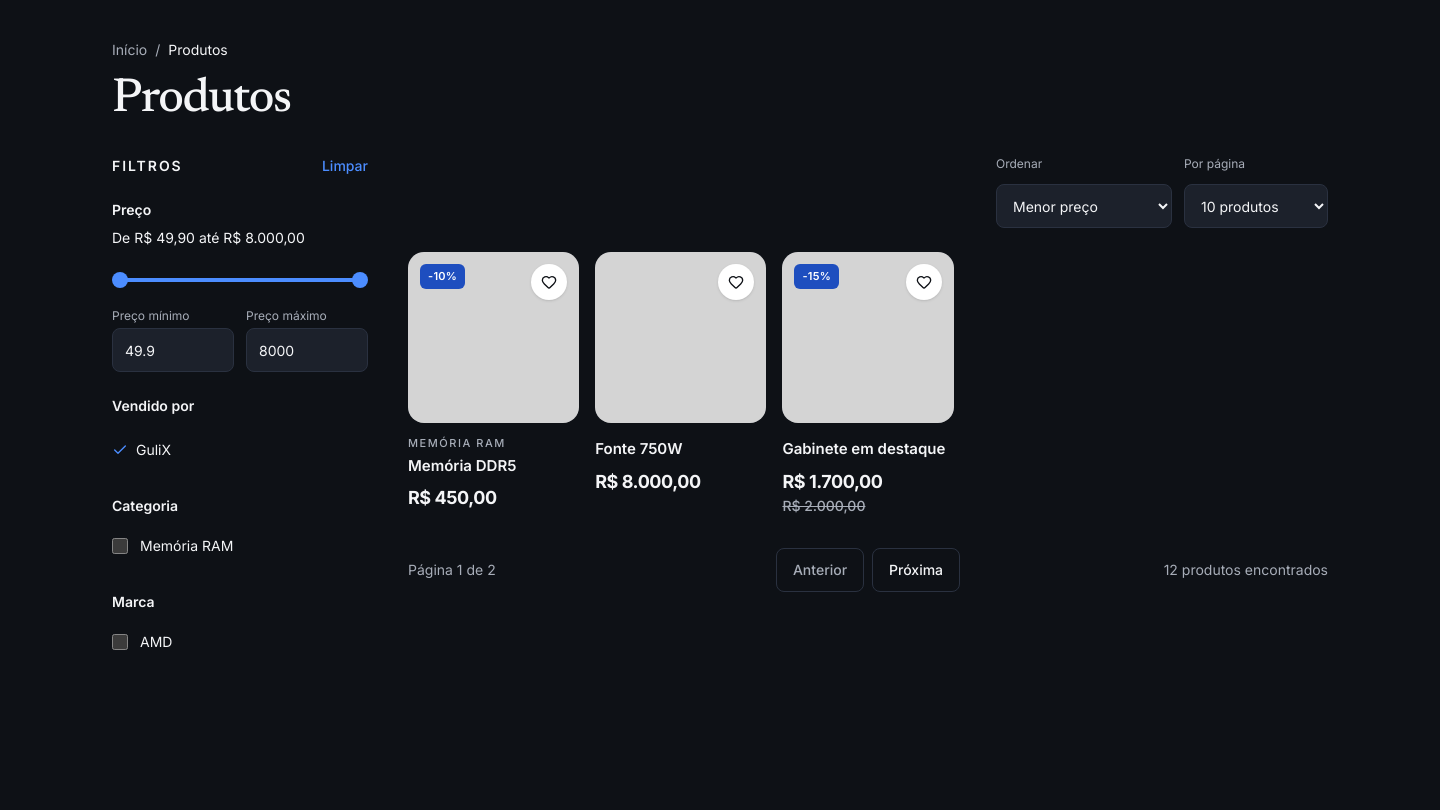
Test: catálogo › sincroniza o preço e oculta o produto fora da faixa nesta página
The width and height of the screenshot is (1440, 810).
Expected: the heading "Fonte 750W" is shown, [595,439,682,458]
Replace the text in the number field labelled "Preço máximo" with "1000" at (307, 350), box [246,328,368,372]
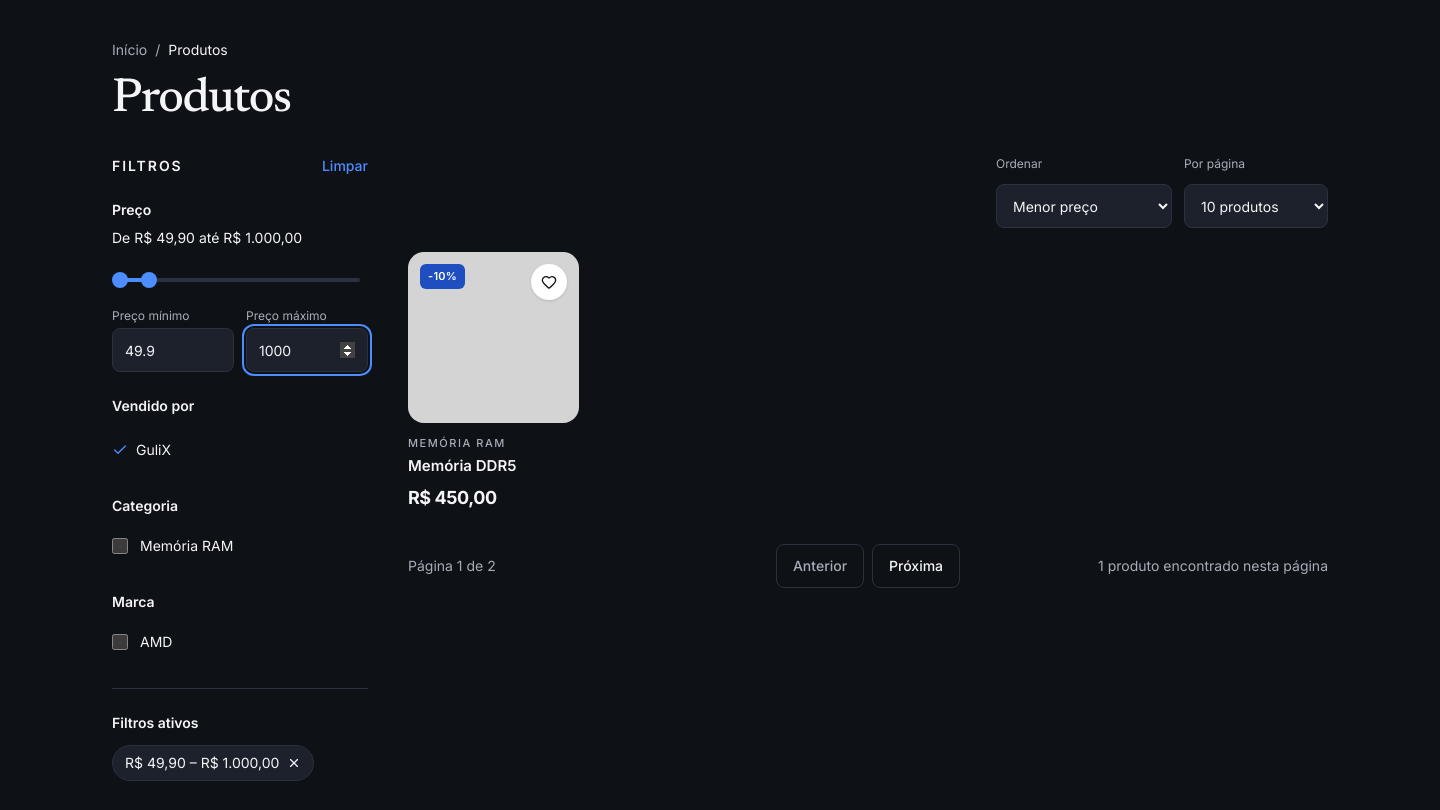
Now the slider named "Máximo" holds "1000", box [112,264,368,296]
Now the link "Fonte 750W" is gone
Now the text "1 produto encontrado nesta página" is shown, box [1098,557,1328,574]
